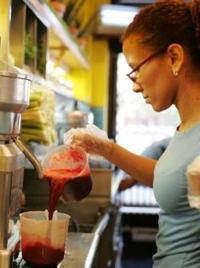person: (71, 3, 200, 268)
